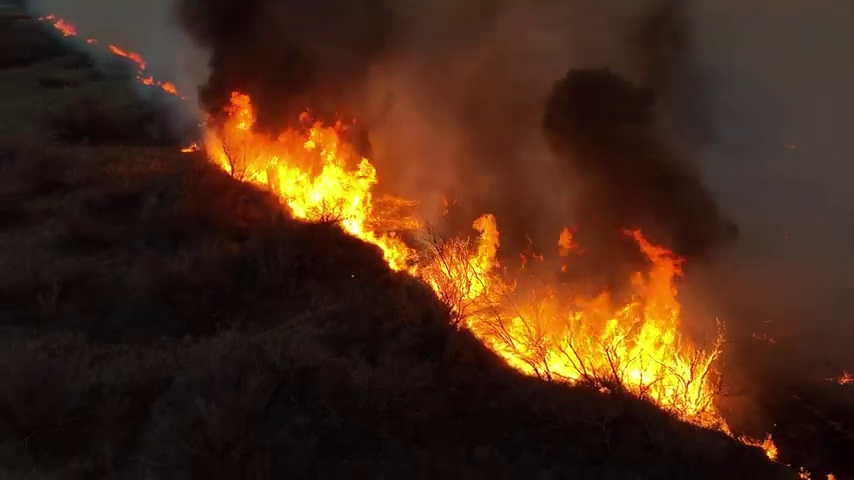forest_fire: (203, 91, 720, 424), (106, 44, 183, 97), (40, 15, 77, 37), (760, 433, 777, 460), (85, 38, 98, 44)
